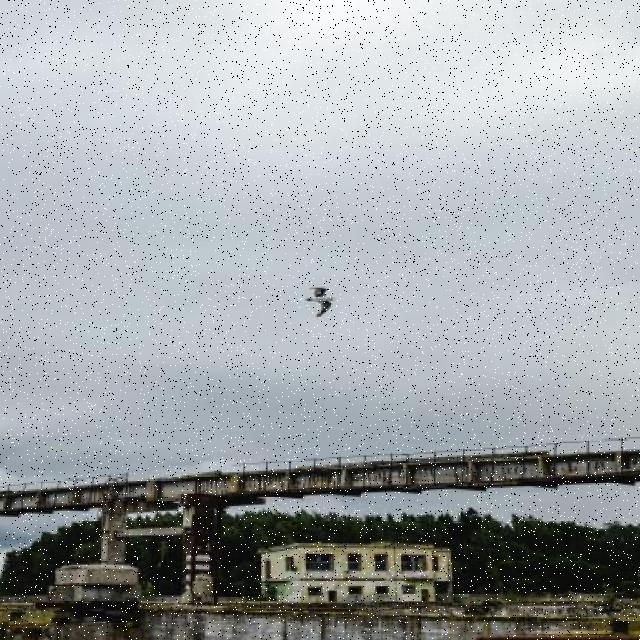bird: (304, 287, 338, 318)
